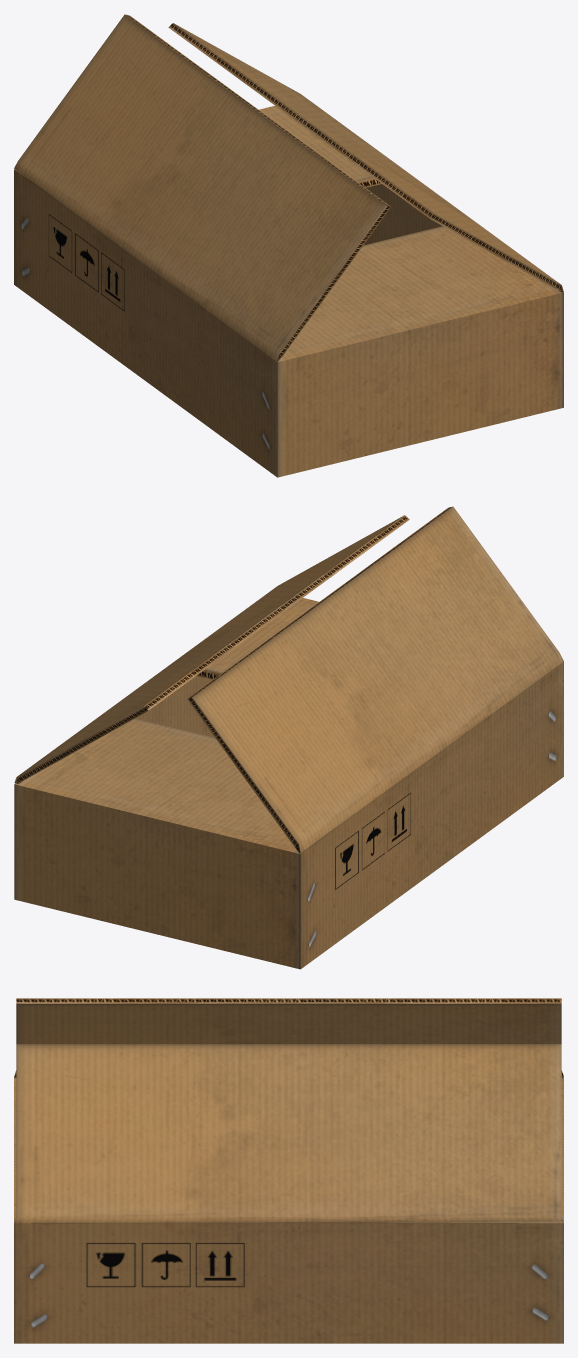
Rendered from ms_paper_box_small_half.fbx.
3 views of the same model, one above another, from view 1: azimuth 30°, elevation 25°; view 2: azimuth 150°, elevation 25°; view 3: azimuth 270°, elevation 25° (orthographic). The views are drawn at different scales.
Visible parts, largest first — view 1: ms_paper_box_small_half; view 2: ms_paper_box_small_half; view 3: ms_paper_box_small_half.
Boxes of the visible parts, x1,y1,x2,y2 form: ms_paper_box_small_half: [14, 14, 563, 477]; ms_paper_box_small_half: [14, 506, 563, 969]; ms_paper_box_small_half: [14, 998, 563, 1343].
Bounding box in the file's own units: 26.25 × 21.38 × 41.77.
